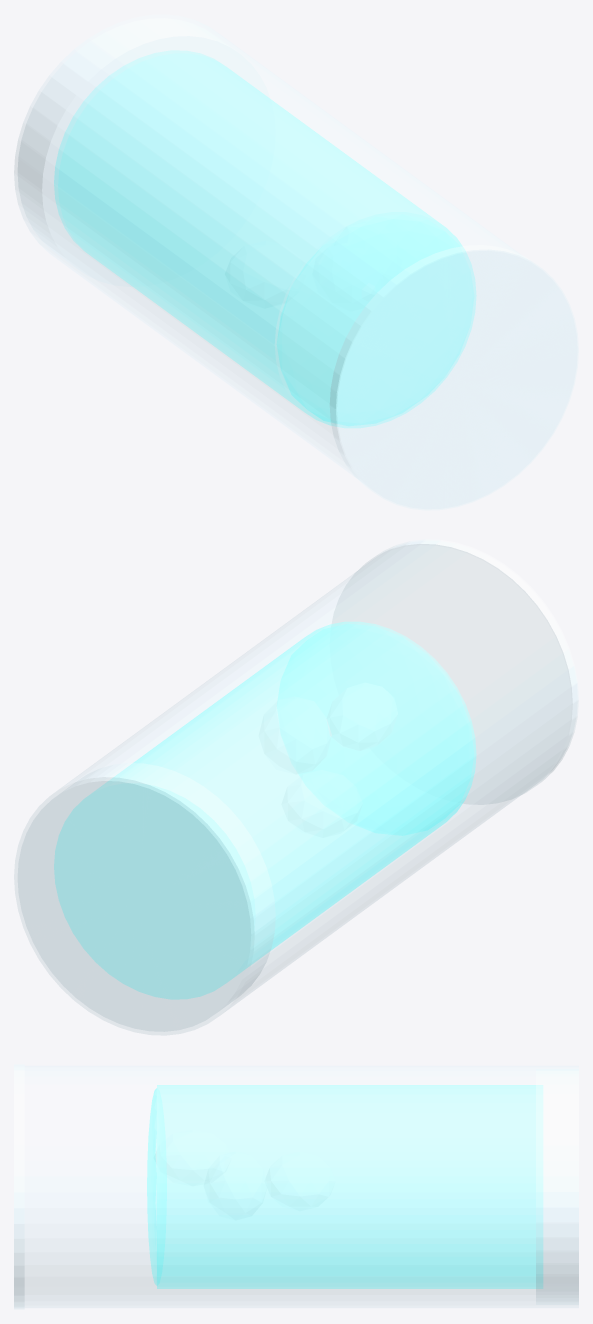
The model's file is lumen_rift_highball.glb.
3 renders of one model, top to bottom at view 1: azimuth 30°, elevation 25°; view 2: azimuth 150°, elevation 25°; view 3: azimuth 270°, elevation 25°, orthographic. The views are drawn at different scales.
Parts seen in each view (by area): view 1: glass_body, liquid, glass_rim, lumen_rift_liquid_meniscus, glass_base; view 2: glass_body, liquid, glass_base, glass_rim, lumen_rift_liquid_meniscus; view 3: glass_body, liquid, glass_base, lumen_rift_liquid_meniscus, glass_rim.
Part boxes in pixels (x1,y1,x2,y2): glass_body: [14, 15, 576, 508]; liquid: [54, 50, 476, 427]; glass_rim: [330, 245, 578, 510]; lumen_rift_liquid_meniscus: [276, 214, 473, 425]; glass_base: [18, 18, 269, 286]; glass_body: [14, 541, 576, 1034]; liquid: [54, 621, 476, 999]; glass_base: [18, 763, 275, 1031]; glass_rim: [332, 539, 578, 804]; lumen_rift_liquid_meniscus: [278, 624, 473, 835]; glass_body: [14, 1066, 578, 1307]; liquid: [157, 1085, 542, 1288]; glass_base: [536, 1069, 578, 1304]; lumen_rift_liquid_meniscus: [147, 1088, 166, 1285]; glass_rim: [14, 1064, 24, 1309].
Size of the model in its own units: 0.6868 by 0.6868 by 1.58.
